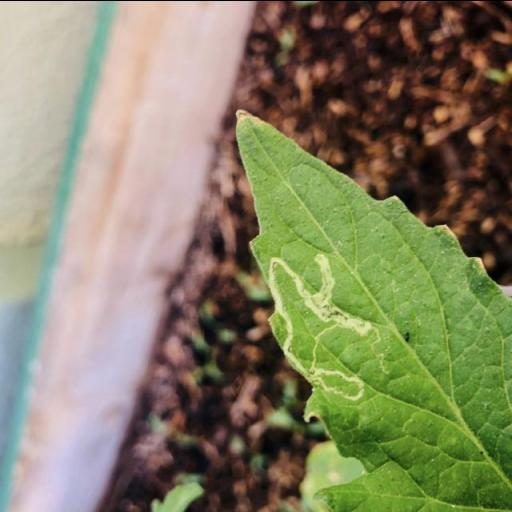disease_tomato: (230, 103, 512, 512)
